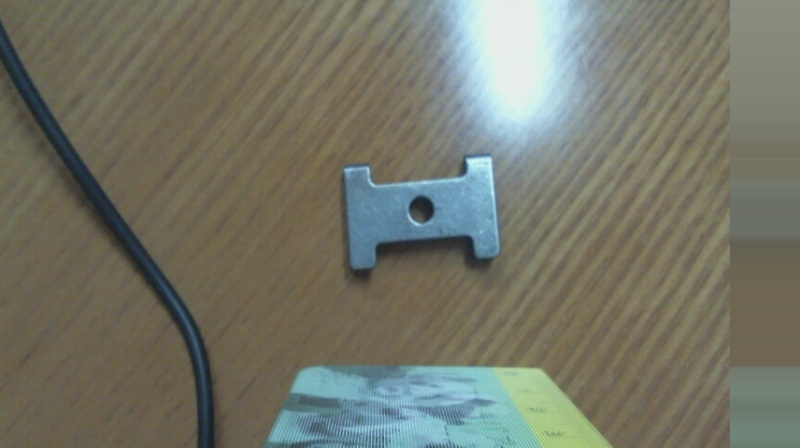O002: (337, 154, 504, 272)
